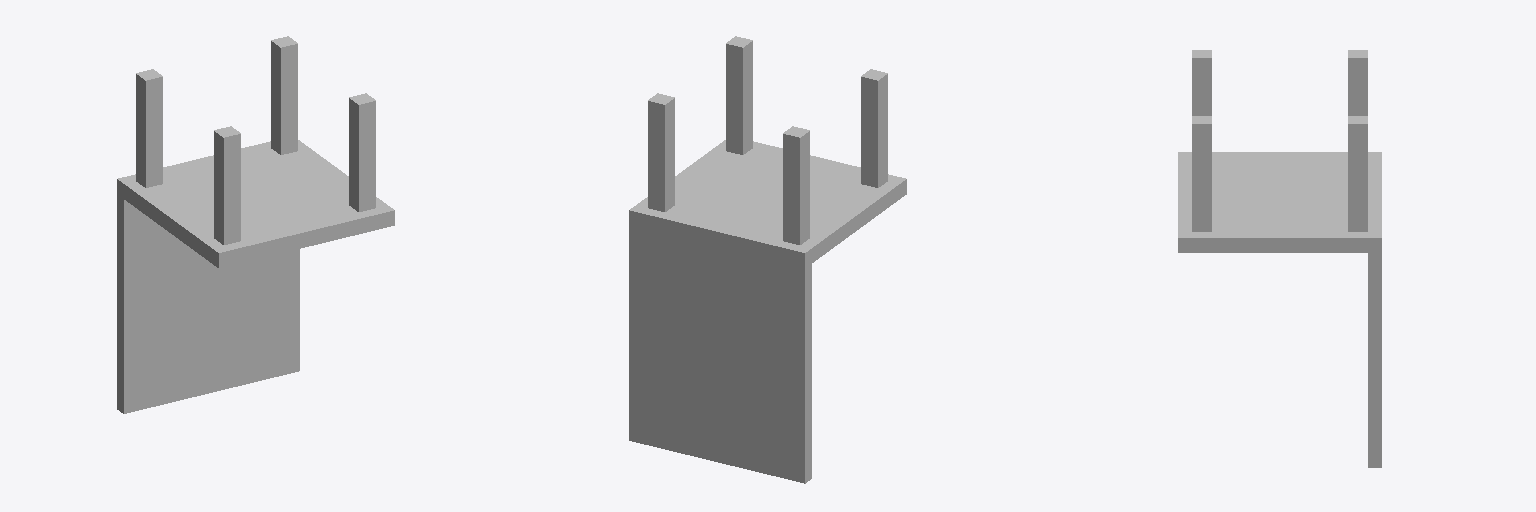
The model's file is chair11.obj.
3 views of the same model, side by side, from view 1: azimuth 30°, elevation 25°; view 2: azimuth 150°, elevation 25°; view 3: azimuth 270°, elevation 25° (orthographic).
Visible parts, largest first — view 1: Cube.001_Cube; view 2: Cube.001_Cube; view 3: Cube.001_Cube.
Boxes of the visible parts, x1=… form: Cube.001_Cube: x1=117, y1=36, x2=394, y2=413; Cube.001_Cube: x1=629, y1=36, x2=906, y2=483; Cube.001_Cube: x1=1178, y1=50, x2=1381, y2=467.
Bounding box in the file's own units: 30 × 55 × 30.